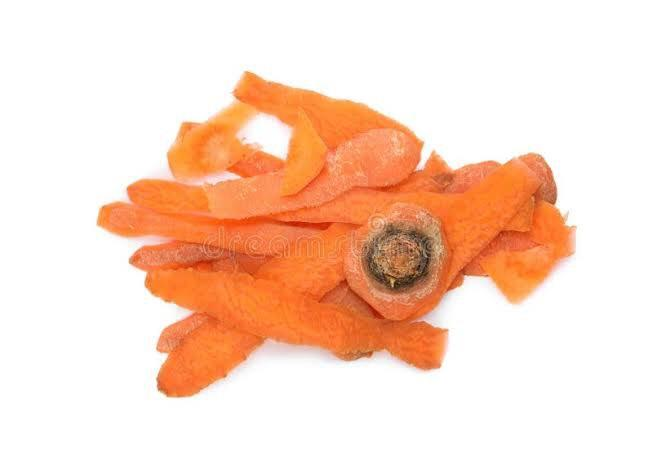organic: (96, 70, 577, 397), (149, 223, 359, 396), (146, 266, 371, 361), (237, 74, 424, 177), (203, 108, 331, 224), (340, 201, 468, 314)
